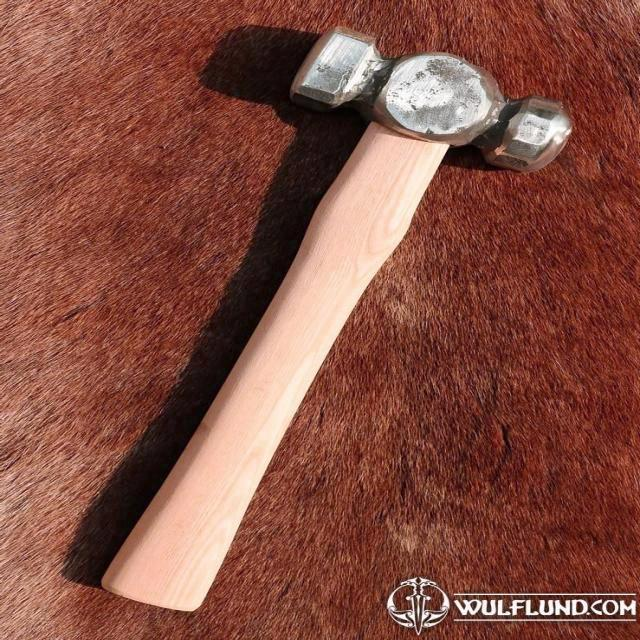hammer: (83, 21, 582, 620)
